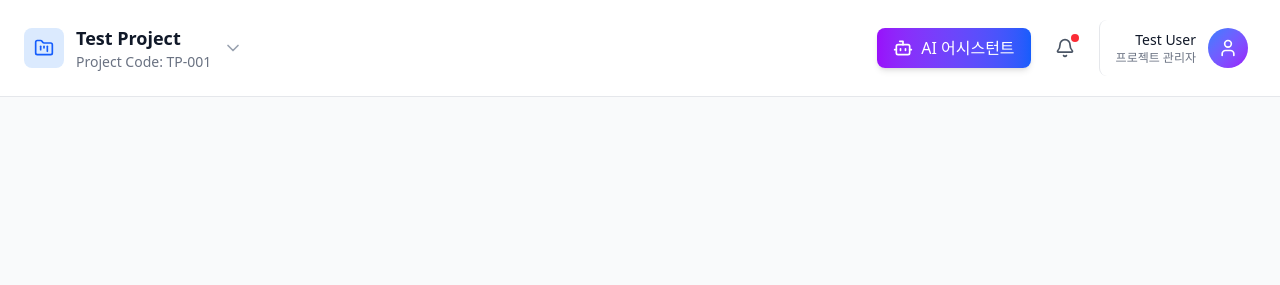
Test: Header › project selector › closes project menu when clicked again
This screenshot has width=1280, height=285.
Click the button "Test Project Project Code: TP-001": [134, 48] box [16,16,251,80]
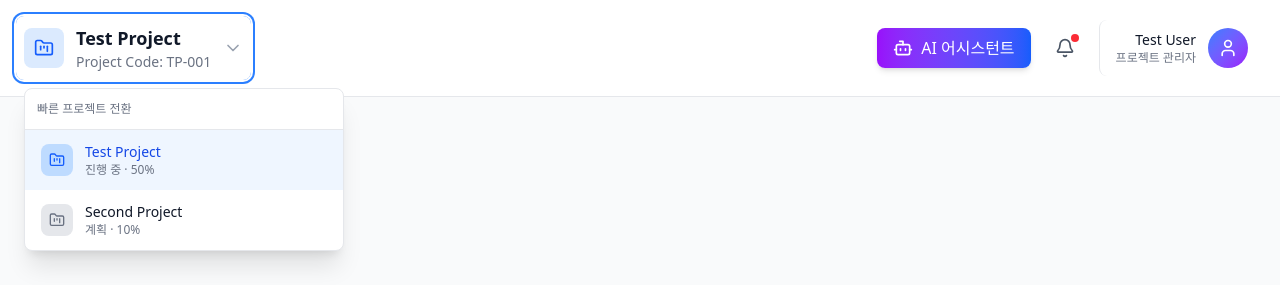
Result: the text "빠른 프로젝트 전환" is shown at [37,100,132,117]
Click the button "Test Project Project Code: TP-001": [134, 48] box [16,16,251,80]
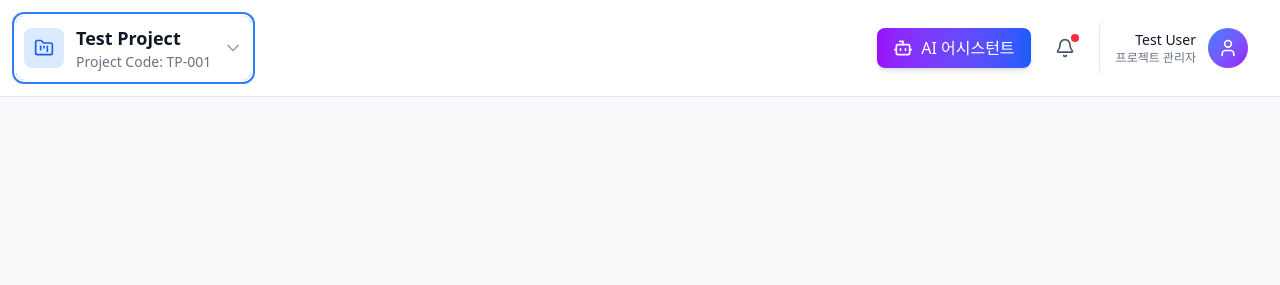
Result: the text "빠른 프로젝트 전환" is gone
